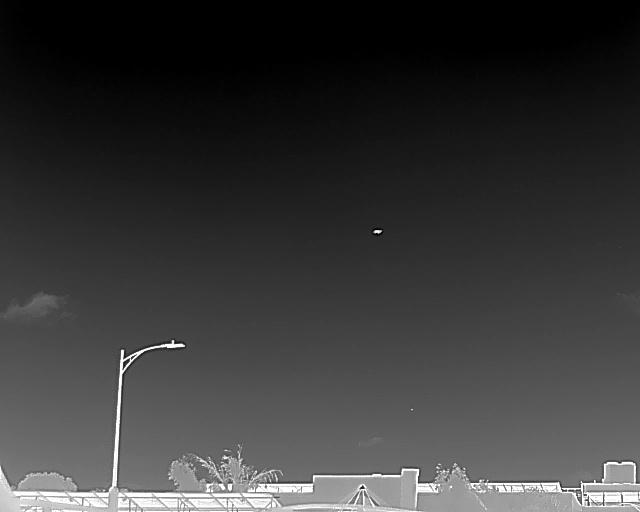fpv-drone: (371, 228, 383, 236)
